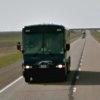Bus: (17, 20, 74, 86)
